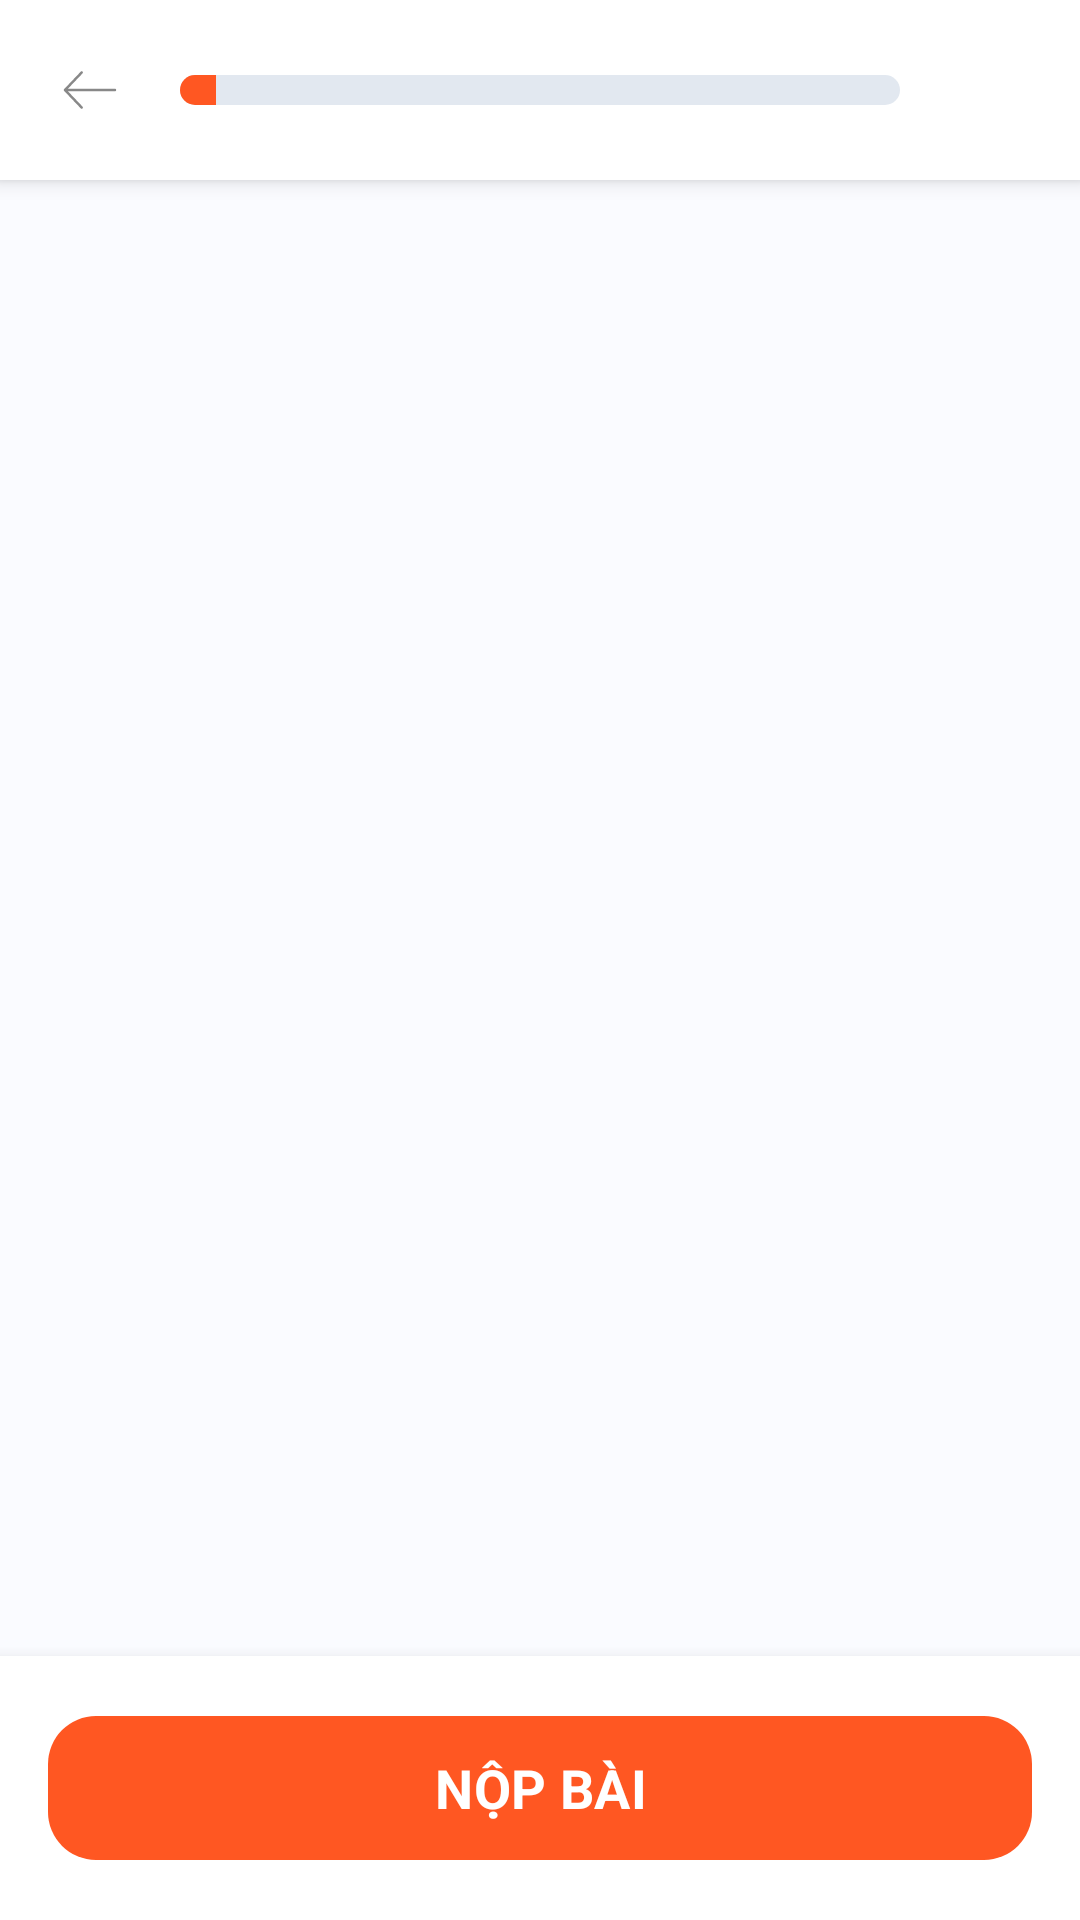

Named icons in this screenshot (1080×1920) and their bounding boxes, (x1=x1, y1=y1, x2=x2, y2=y2):
back: (x1=64, y1=71, x2=116, y2=109)
